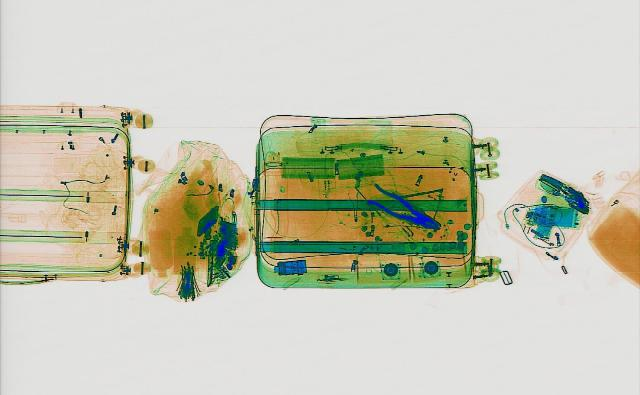Pliers: (353, 181, 451, 234)
